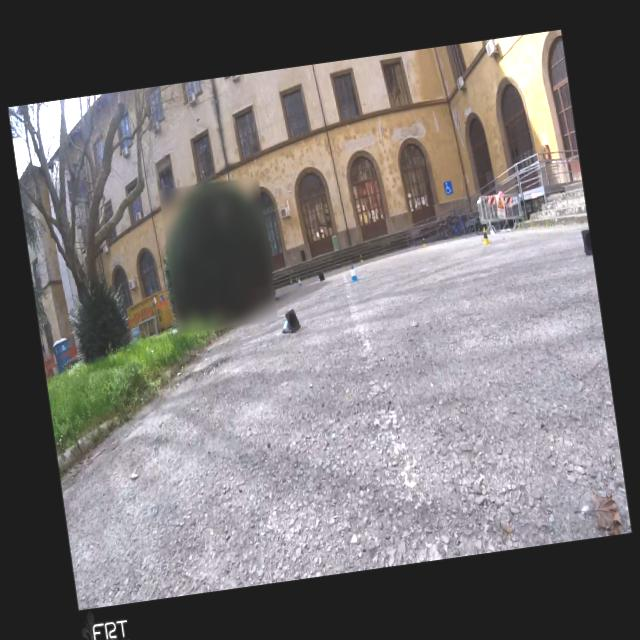blue_cone: (279, 308, 302, 334), (350, 264, 360, 282), (297, 278, 303, 288)
unknown_cone: (581, 229, 593, 256), (318, 272, 325, 282)
yellow_cone: (480, 226, 492, 246), (422, 236, 428, 248), (359, 254, 364, 264)
